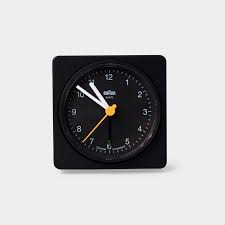alarm_clock: (49, 50, 166, 168)
